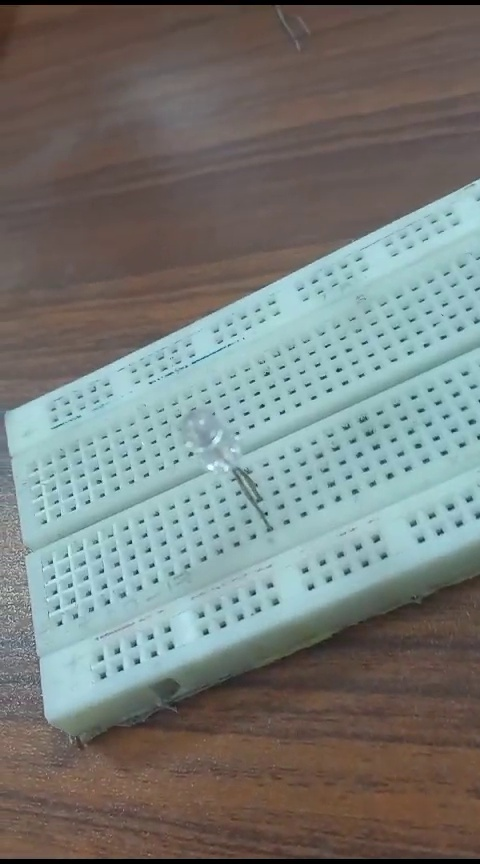LED: (164, 407, 284, 532)
